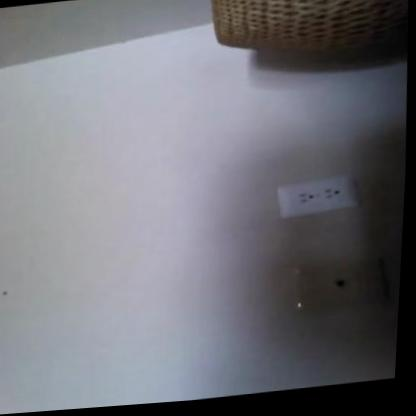OUTLET: (276, 174, 359, 218)
